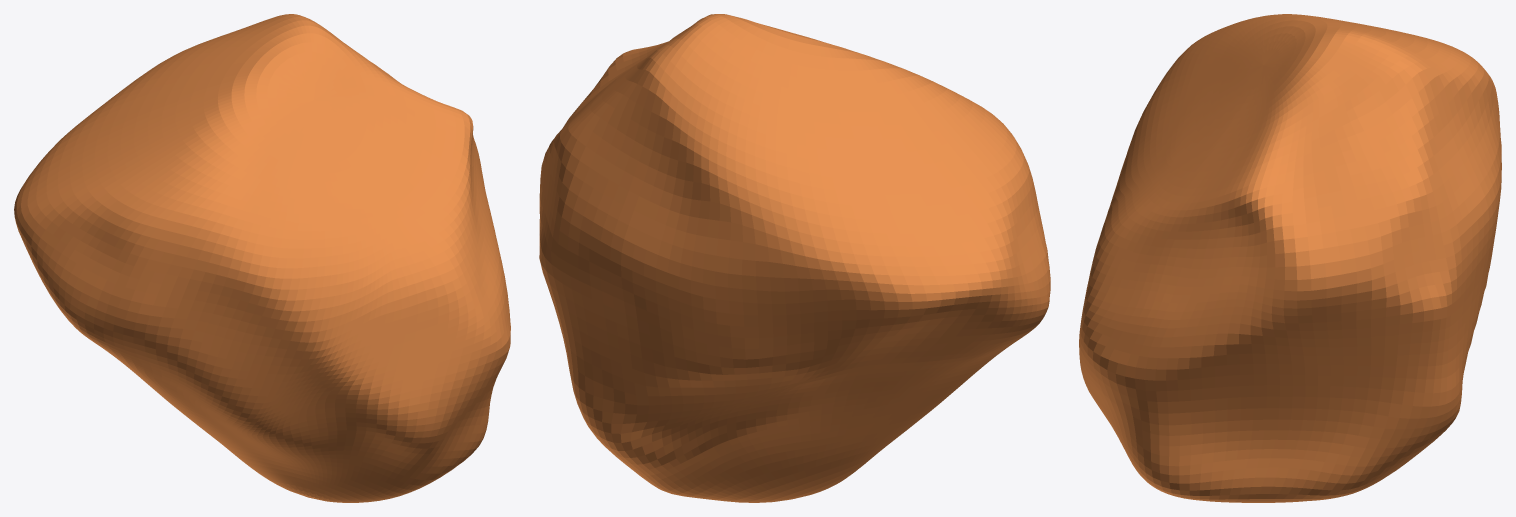
Rendered from Desert_Rock4.fbx.
The picture shows the model from 3 angles, left to right: view 1: azimuth 30°, elevation 25°; view 2: azimuth 150°, elevation 25°; view 3: azimuth 270°, elevation 25°; orthographic projection. The views are drawn at different scales.
Parts seen in each view (by area): view 1: Sphere.001; view 2: Sphere.001; view 3: Sphere.001.
Part boxes in pixels (x1,y1,x2,y2): Sphere.001: [14, 14, 510, 502]; Sphere.001: [539, 14, 1050, 502]; Sphere.001: [1079, 14, 1501, 502].
Size of the model in its own units: 148 by 145 by 121.
